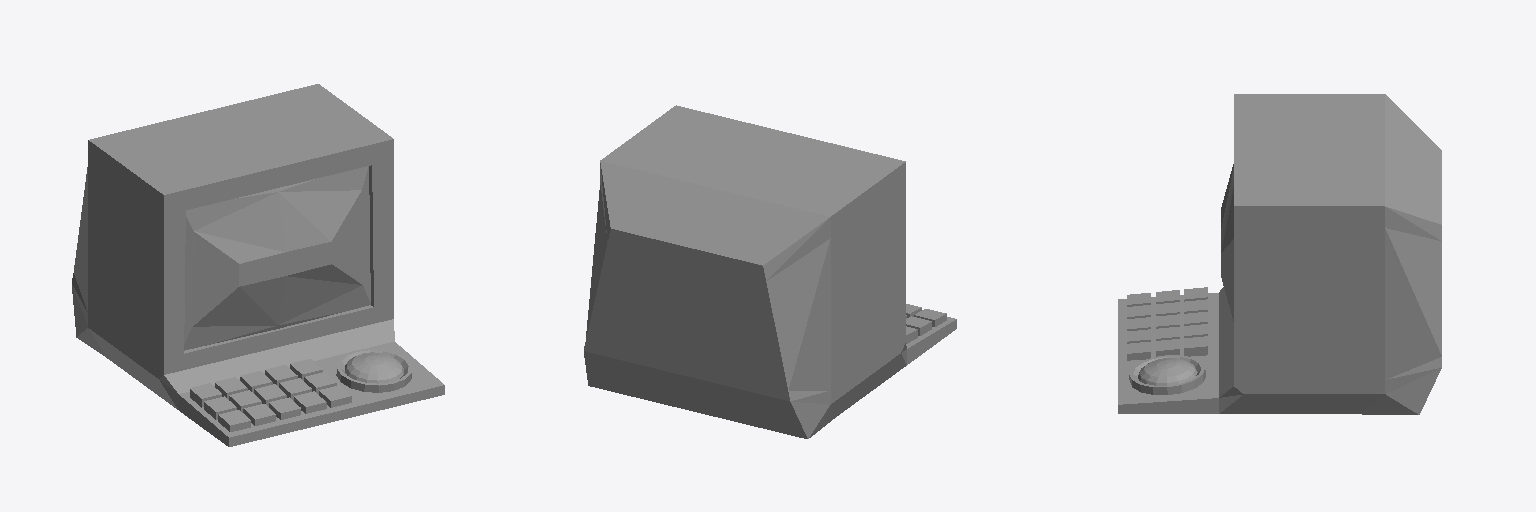
The model's file is Computer.obj.
3 views of the same model, side by side, from view 1: azimuth 30°, elevation 25°; view 2: azimuth 150°, elevation 25°; view 3: azimuth 270°, elevation 25° (orthographic).
Parts seen in each view (by area): view 1: Ordenador.001_Plane.001; view 2: Ordenador.001_Plane.001; view 3: Ordenador.001_Plane.001.
Boxes of the visible parts, x1=… form: Ordenador.001_Plane.001: x1=72, y1=84, x2=444, y2=446; Ordenador.001_Plane.001: x1=584, y1=105, x2=956, y2=438; Ordenador.001_Plane.001: x1=1118, y1=94, x2=1441, y2=414.
Bounding box in the file's own units: 0.5457 × 0.4788 × 0.6653.